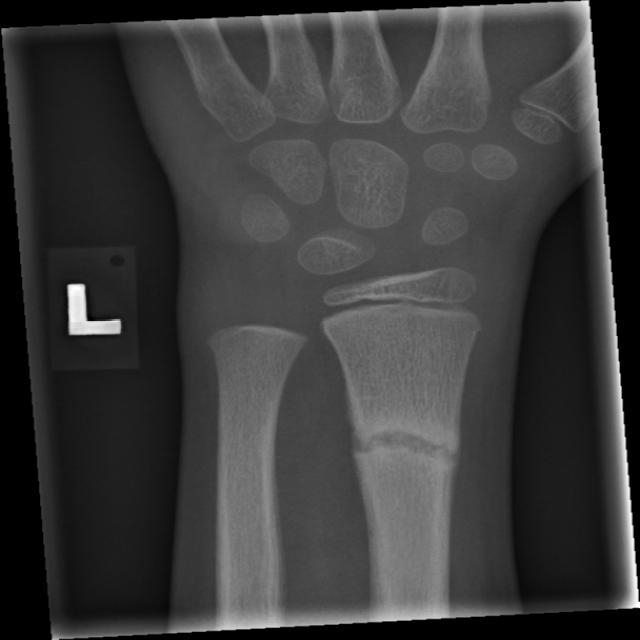radius fracture: (338, 387, 481, 533)
